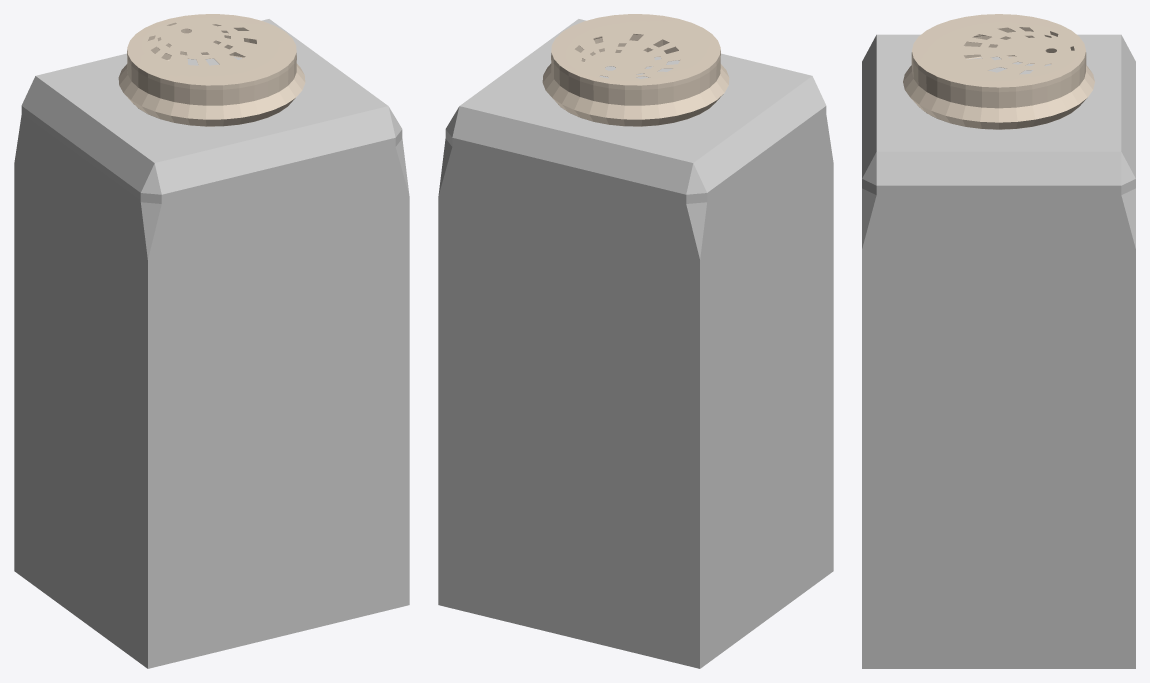
The model's file is Royko.fbx.
3 renders of one model, left to right at view 1: azimuth 30°, elevation 25°; view 2: azimuth 150°, elevation 25°; view 3: azimuth 270°, elevation 25°, orthographic. The views are drawn at different scales.
Parts seen in each view (by area): view 1: Cube, Cylinder; view 2: Cube, Cylinder; view 3: Cube, Cylinder.
Boxes of the visible parts, x1=… form: Cube: x1=14, y1=19, x2=409, y2=668; Cylinder: x1=118, y1=14, x2=305, y2=126; Cube: x1=438, y1=19, x2=833, y2=668; Cylinder: x1=542, y1=14, x2=729, y2=126; Cube: x1=862, y1=34, x2=1135, y2=668; Cylinder: x1=903, y1=14, x2=1094, y2=129.
Size of the model in its own units: 179 by 353 by 159.
